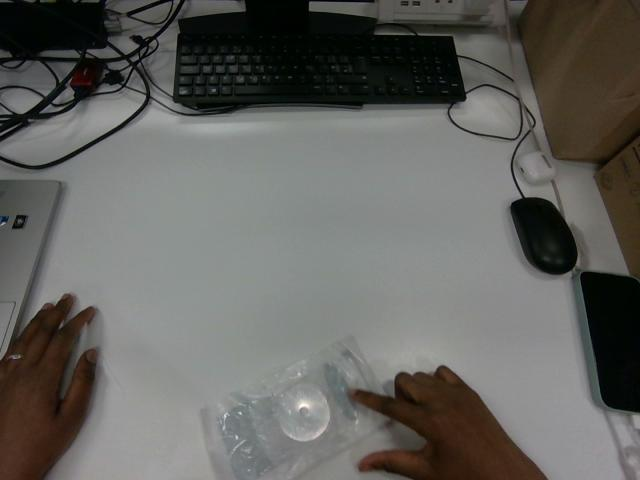gallipot: (201, 337, 383, 479)
